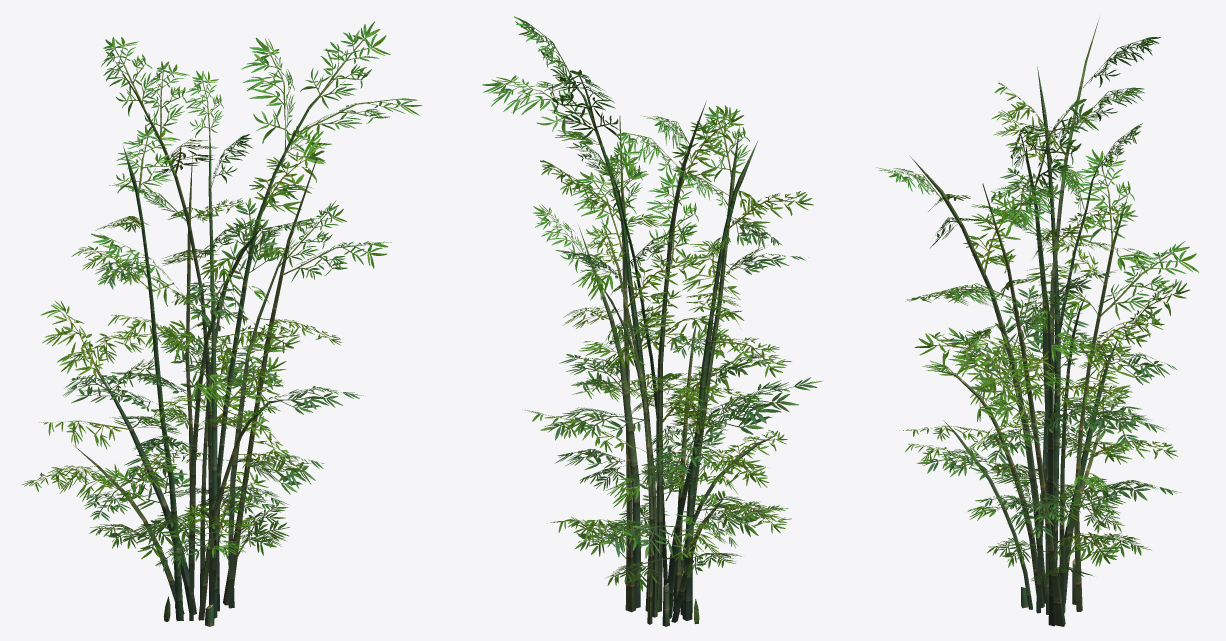
The model's file is Yland1_yz_12 Yland1.FBX.
The picture shows the model from 3 angles, left to right: view 1: azimuth 30°, elevation 25°; view 2: azimuth 150°, elevation 25°; view 3: azimuth 270°, elevation 25°; orthographic projection. The views are drawn at different scales.
Visible parts, largest first — view 1: Yland1_yz_12 Yland1; view 2: Yland1_yz_12 Yland1; view 3: Yland1_yz_12 Yland1.
Boxes of the visible parts, x1,y1,x2,y2 form: Yland1_yz_12 Yland1: (21,21,422,626); Yland1_yz_12 Yland1: (482,16,823,626); Yland1_yz_12 Yland1: (876,18,1199,626).
Bounding box in the file's own units: 17.91 × 26.89 × 14.91.
